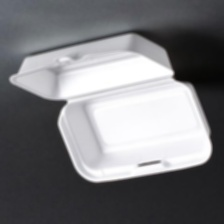foam_box: (1, 27, 218, 190)
